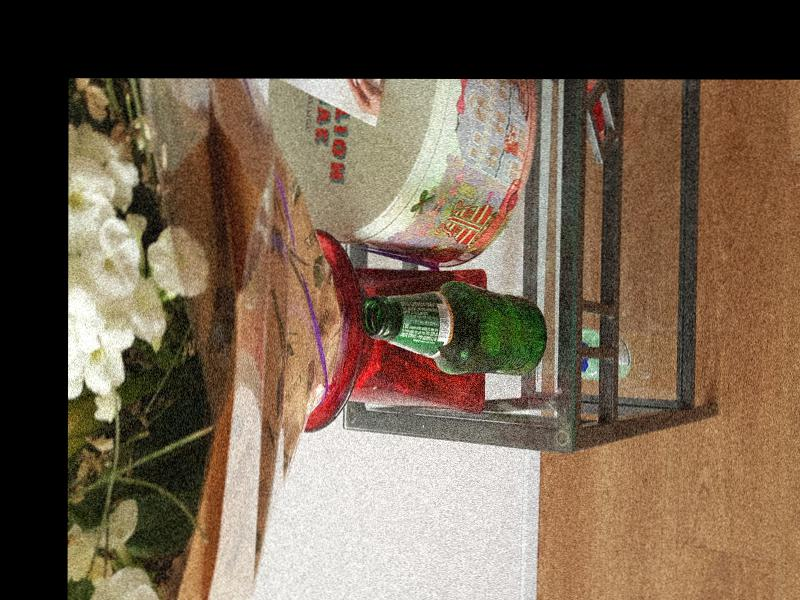Beer: (363, 280, 548, 376)
